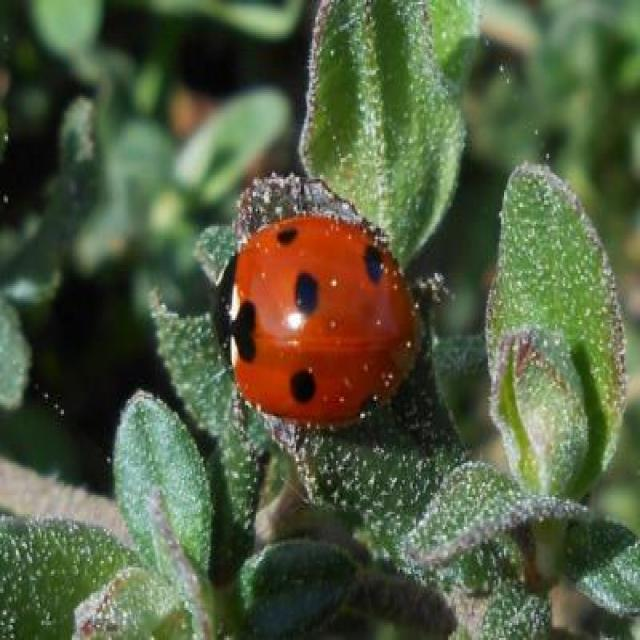body: (215, 212, 424, 426)
insect: (214, 209, 423, 430)
wings: (235, 213, 419, 426)
